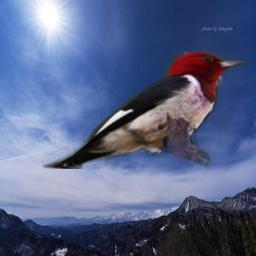Woodpecker: (41, 49, 252, 169)
